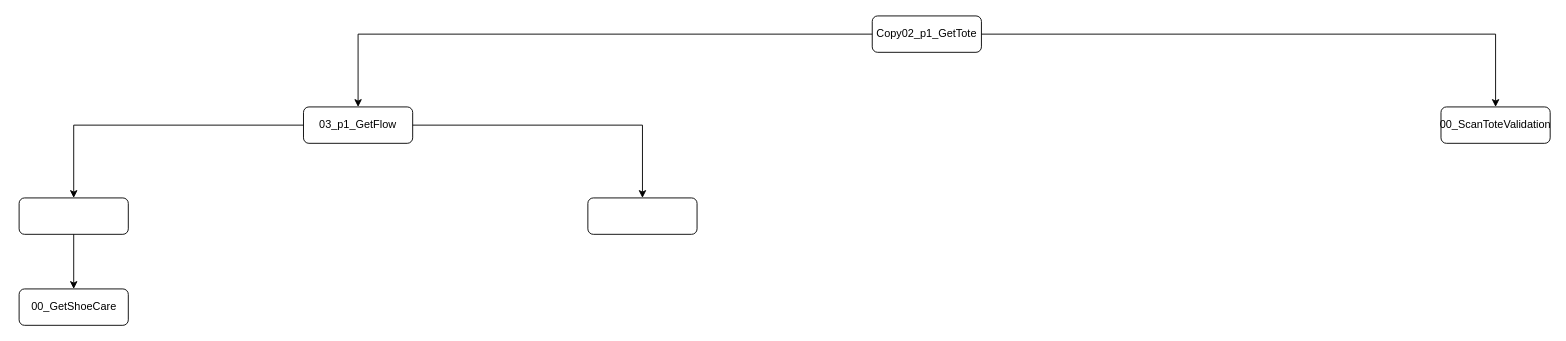
This 1566x341 diagram has some shape labels left out. Each missing label, with the box of its shape:
02_ConditionResolver: (587, 197, 697, 234)
04_p1_GetComponents: (18, 197, 128, 234)
